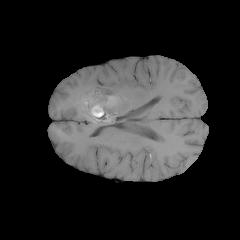glioma: (69, 76, 129, 123)
